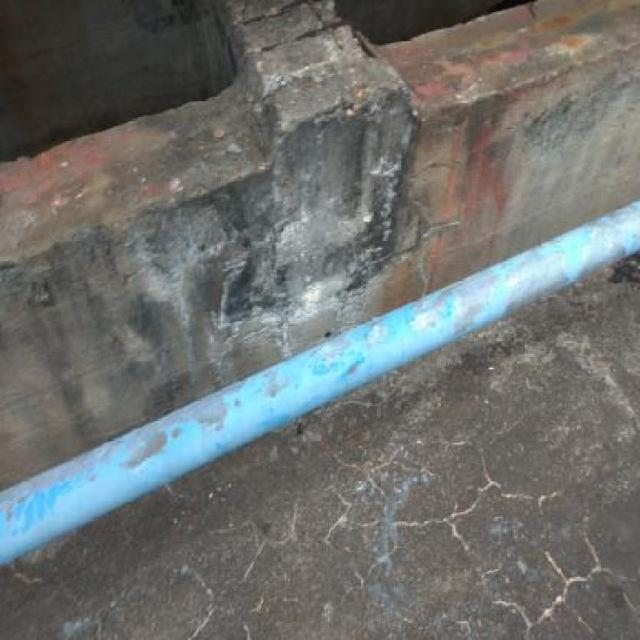gas: (4, 201, 640, 559)
